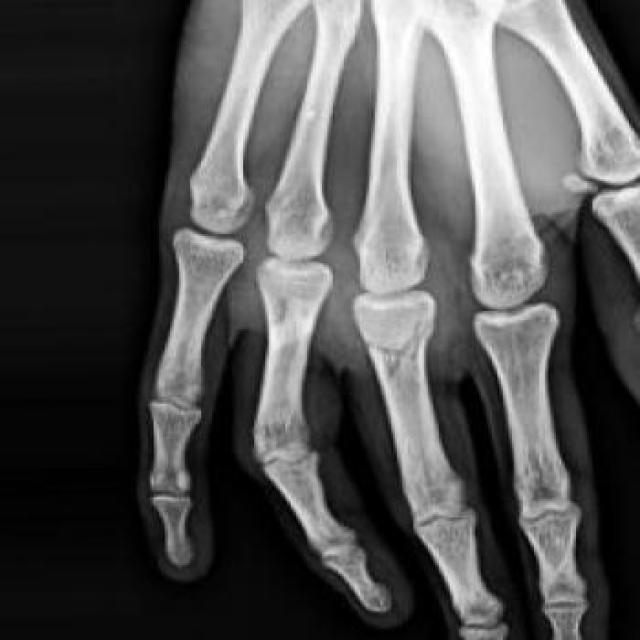Fracture: (359, 316, 442, 378)
